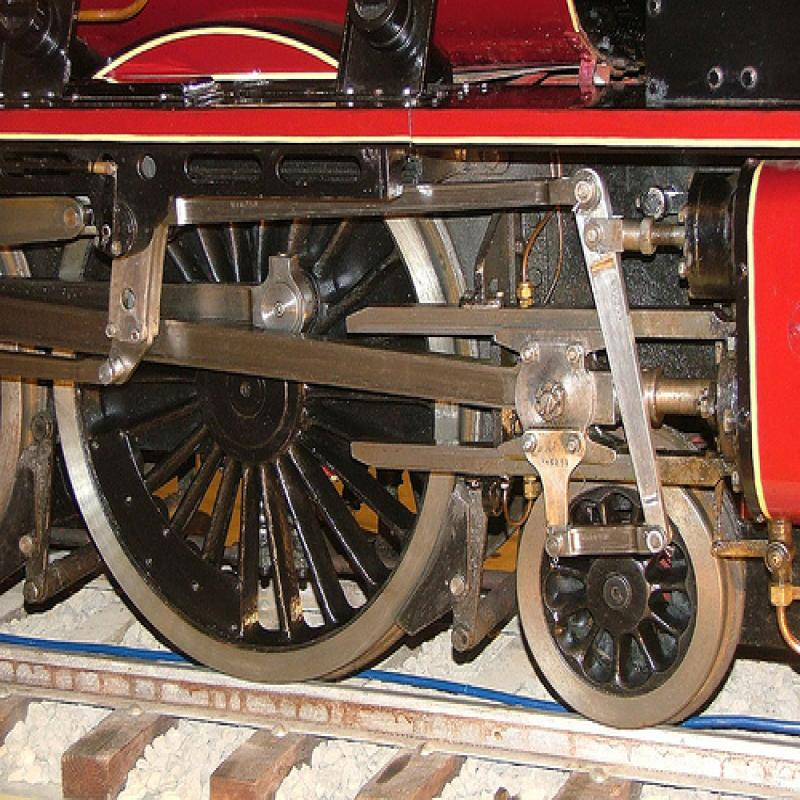train: (1, 1, 799, 735)
